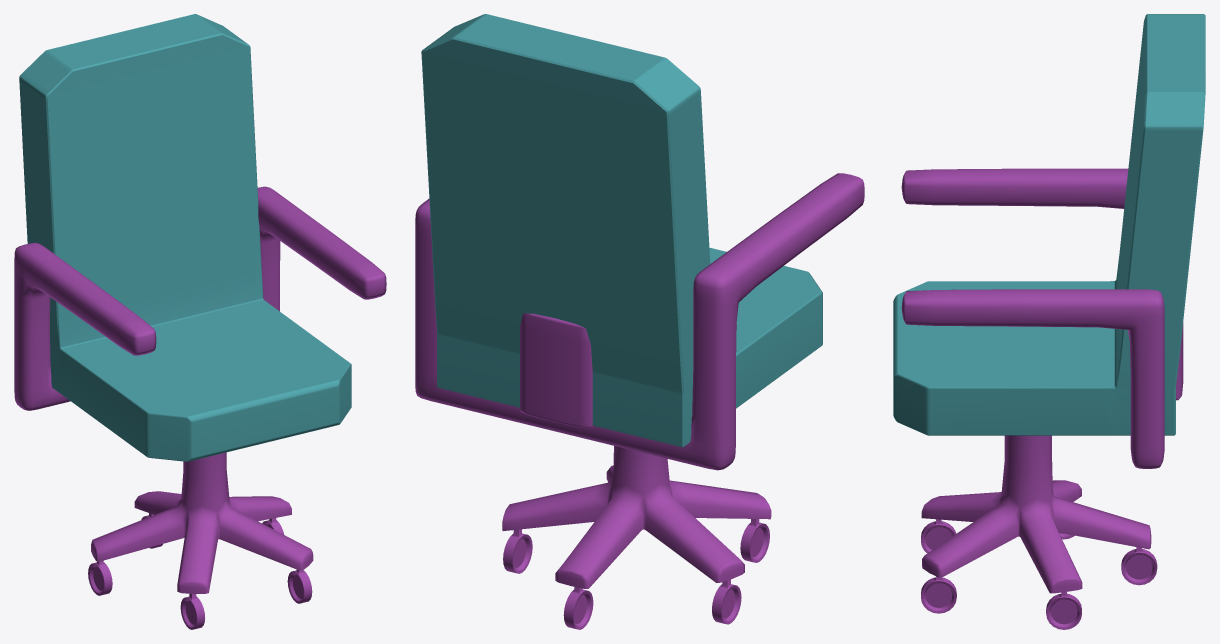
Rendered from ChairFBX.fbx.
3 renders of one model, left to right at view 1: azimuth 30°, elevation 25°; view 2: azimuth 150°, elevation 25°; view 3: azimuth 270°, elevation 25°, orthographic. The views are drawn at different scales.
Visible parts, largest first — view 1: polySurface44; view 2: polySurface44; view 3: polySurface44.
Part boxes in pixels (<box>): polySurface44: <box>14,14,386,629</box>; polySurface44: <box>415,14,864,629</box>; polySurface44: <box>893,14,1205,629</box>.
Size of the model in its own units: 43.43 by 78.92 by 42.19.
